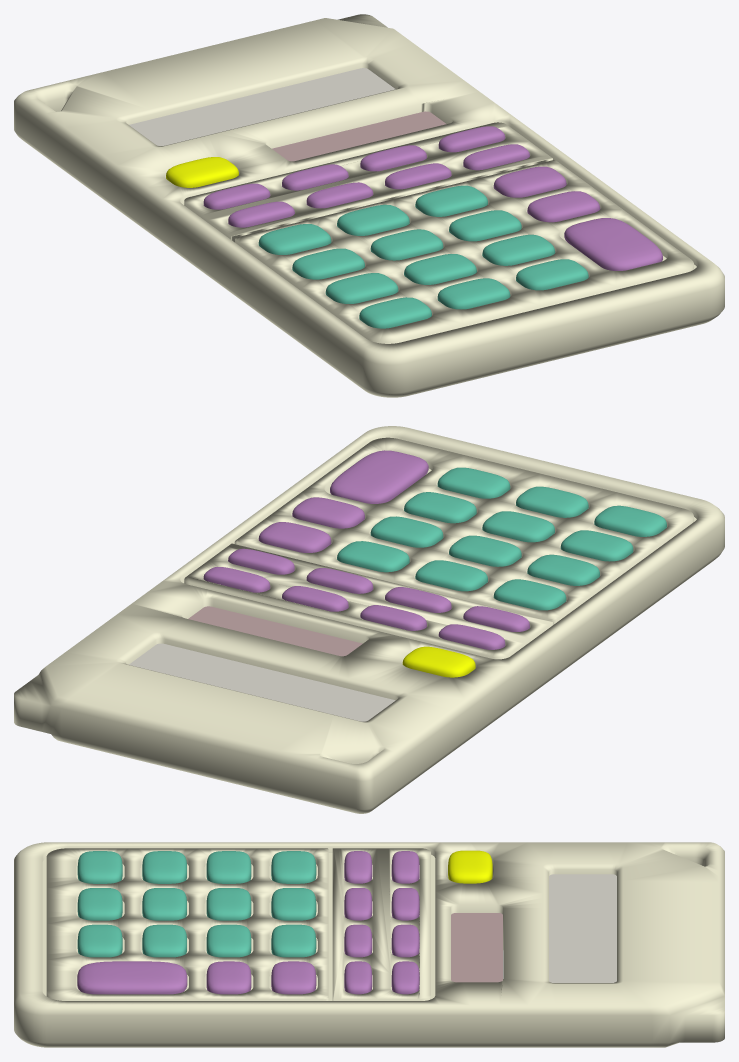
The model's file is calculator.fbx.
3 views of the same model, one above another, from view 1: azimuth 30°, elevation 25°; view 2: azimuth 150°, elevation 25°; view 3: azimuth 270°, elevation 25° (orthographic). The views are drawn at different scales.
Parts seen in each view (by area): view 1: kalkulator_obudowa, kalk_ekran, kalk_klawisz__2, kalk_bateria, kalk_klawiszX, kalk_klawisz8, kalk_klawisz9, kalk_klawisz__0, kalk_klawisz7, kalk_klawisz3, kalk_klawisz-, kalk_klawisz5 (+15 smaller); view 2: kalkulator_obudowa, kalk_ekran, kalk_klawisz__2, kalk_bateria, kalk_klawisz-, kalk_klawisz__1, kalk_klawisz6, kalk_klawisz1, kalk_klawisz2, kalk_klawisz4, kalk_klawisz0, kalk_klawisz__0 (+15 smaller); view 3: kalkulator_obudowa, kalk_ekran, kalk_bateria, kalk_klawisz__2, kalk_klawisz9, kalk_klawisz-, kalk_klawisz__1, kalk_klawiszX, kalk_klawisz6, kalk_klawisz3, kalk_klawisz_on, kalk_klawisz4 (+15 smaller).
Boxes of the visible parts, left/top/right/bottom form: kalkulator_obudowa: left=14, top=14, right=724, bottom=397; kalk_ekran: left=129, top=68, right=395, bottom=145; kalk_klawisz__2: left=564, top=218, right=662, bottom=270; kalk_bateria: left=272, top=111, right=446, bottom=161; kalk_klawiszX: left=493, top=166, right=566, bottom=197; kalk_klawisz8: left=337, top=204, right=409, bottom=235; kalk_klawisz9: left=415, top=185, right=487, bottom=216; kalk_klawisz__0: left=437, top=278, right=510, bottom=309; kalk_klawisz7: left=258, top=224, right=331, bottom=254; kalk_klawisz3: left=482, top=234, right=555, bottom=265; kalk_klawisz-: left=527, top=191, right=600, bottom=222; kalk_klawisz5: left=370, top=229, right=443, bottom=260; kalkulator_obudowa: left=14, top=426, right=724, bottom=813; kalk_ekran: left=129, top=643, right=395, bottom=721; kalk_klawisz__2: left=330, top=450, right=428, bottom=503; kalk_bateria: left=188, top=606, right=362, bottom=656; kalk_klawisz-: left=292, top=497, right=364, bottom=528; kalk_klawisz__1: left=437, top=467, right=510, bottom=498; kalk_klawisz6: left=370, top=516, right=443, bottom=547; kalk_klawisz1: left=560, top=530, right=633, bottom=561; kalk_klawisz2: left=482, top=511, right=554, bottom=542; kalk_klawisz4: left=527, top=554, right=599, bottom=585; kalk_klawisz0: left=594, top=505, right=666, bottom=536; kalk_klawisz__0: left=516, top=486, right=588, bottom=517; kalkulator_obudowa: left=14, top=842, right=724, bottom=1047; kalk_ekran: left=549, top=874, right=616, bottom=982; kalk_bateria: left=451, top=913, right=502, bottom=982; kalk_klawisz__2: left=77, top=961, right=187, bottom=994; kalk_klawisz9: left=271, top=924, right=316, bottom=957; kalk_klawisz-: left=206, top=961, right=251, bottom=994; kalk_klawisz__1: left=77, top=924, right=122, bottom=957; kalk_klawiszX: left=271, top=961, right=316, bottom=994; kalk_klawisz6: left=206, top=924, right=251, bottom=957; kalk_klawisz3: left=142, top=924, right=186, bottom=957; kalk_klawisz_on: left=448, top=850, right=492, bottom=883; kalk_klawisz4: left=206, top=851, right=251, bottom=883.
Size of what is drawn, in the model's own units: 1.52 by 0.2089 by 2.71.
